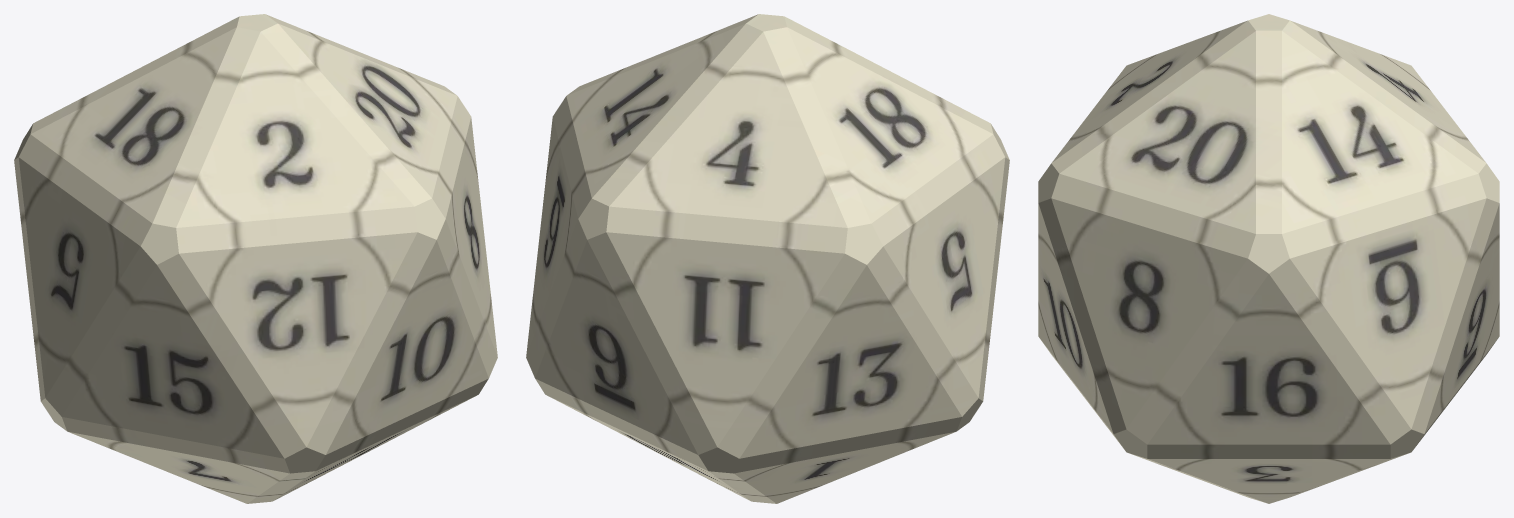
3 renders of one model, left to right at view 1: azimuth 30°, elevation 25°; view 2: azimuth 150°, elevation 25°; view 3: azimuth 270°, elevation 25°, orthographic.
Parts seen in each view (by area): view 1: D20; view 2: D20; view 3: D20.
Part boxes in pixels (x1,y1,x2,y2): D20: (14,14,497,503); D20: (526,14,1009,503); D20: (1038,14,1499,503).
Size of the model in its own units: 2.8 by 3.01 by 2.66.
1 material, 1 textured.
